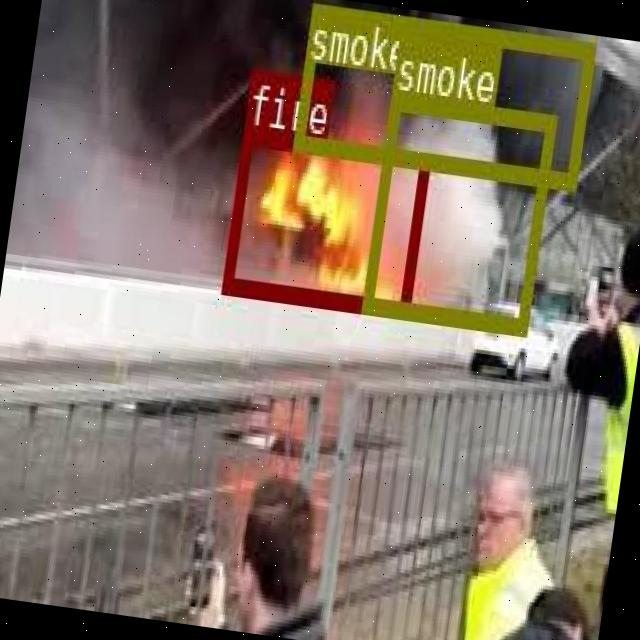fire: (222, 127, 429, 316)
smoke: (290, 2, 596, 186), (361, 90, 556, 330)
